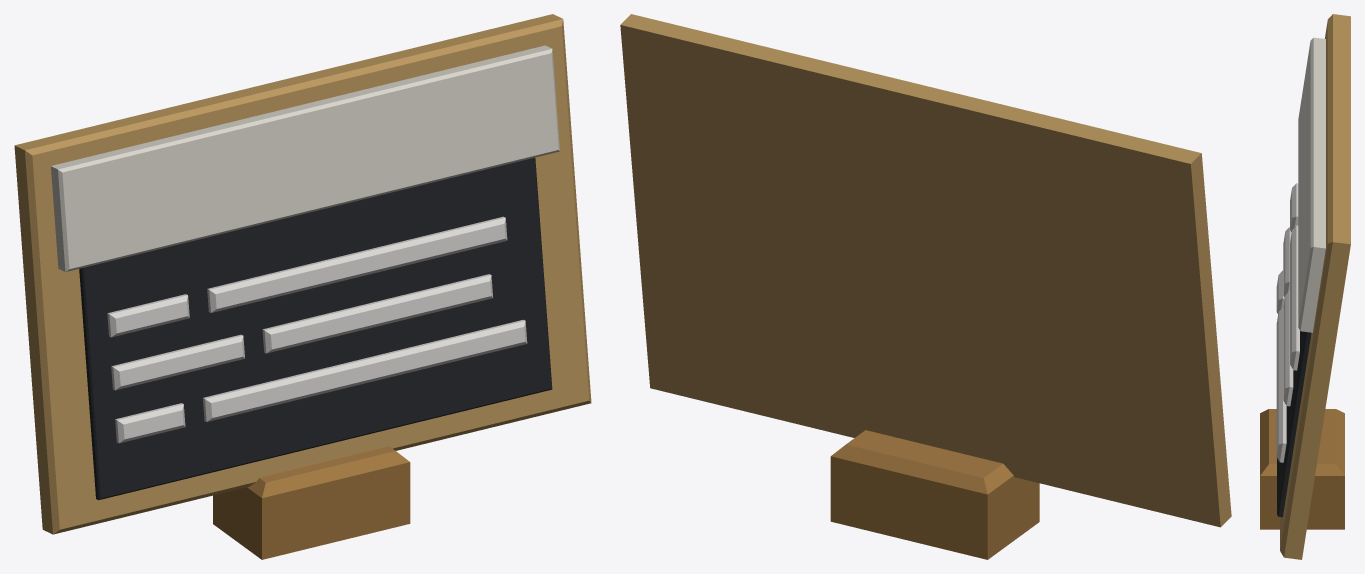
Rendered from species-id-plaque-5f73ed.glb.
3 views of the same model, side by side, from view 1: azimuth 30°, elevation 25°; view 2: azimuth 150°, elevation 25°; view 3: azimuth 270°, elevation 25° (orthographic). The views are drawn at different scales.
Visible parts, largest first — view 1: plaque; view 2: plaque; view 3: plaque.
Boxes of the visible parts, bbox=[...] form: plaque: bbox=[14, 14, 591, 559]; plaque: bbox=[620, 14, 1231, 559]; plaque: bbox=[1260, 14, 1350, 559].
Size of the model in its own units: 0.356 by 0.2695 by 0.06.
